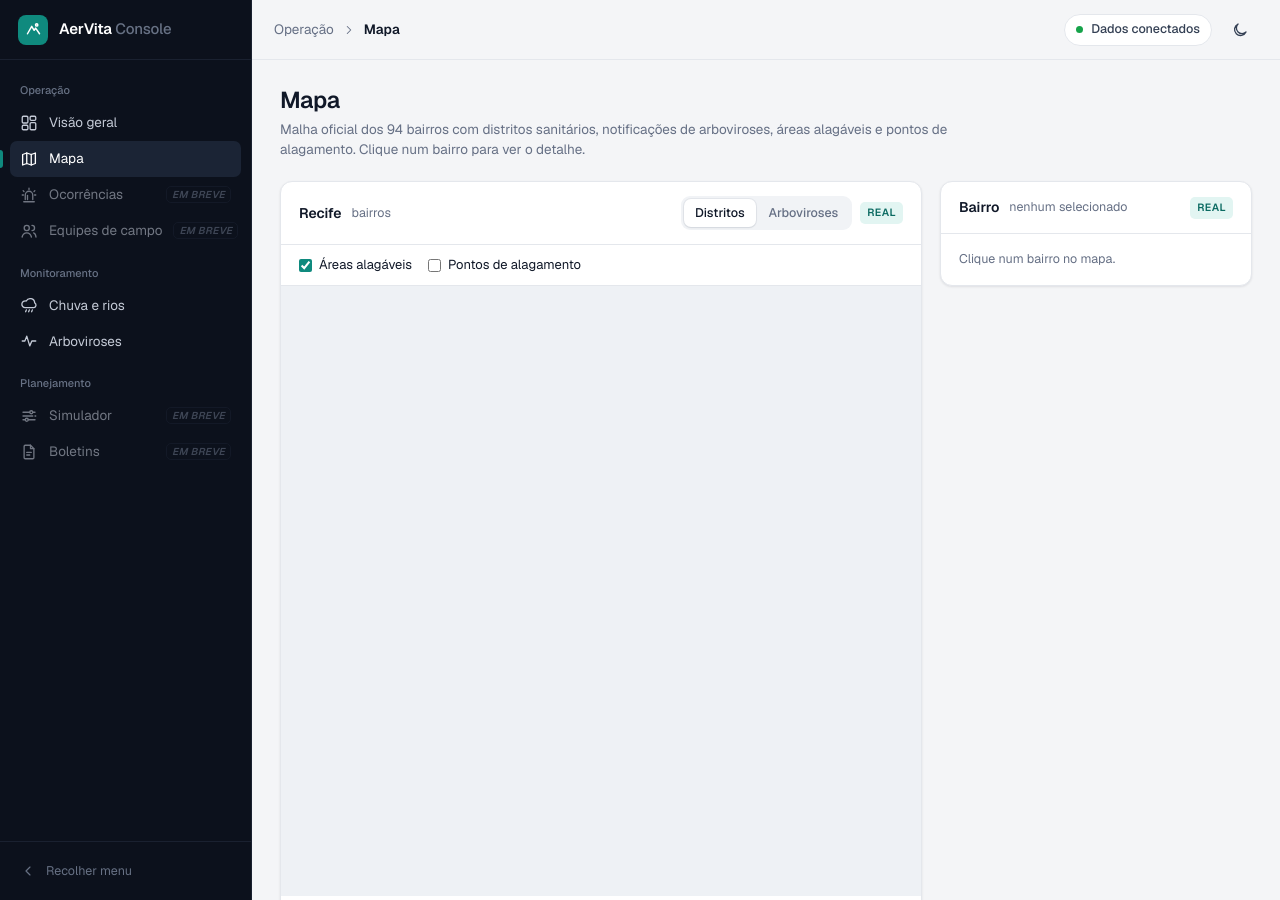
mapa: legenda muda com a camada
The width and height of the screenshot is (1280, 900).
What coordinates should you click on to do the following:
click the button "Arboviroses"
I would click on:
 (803, 213)
Its box is x1=758 y1=199 x2=849 y2=227.
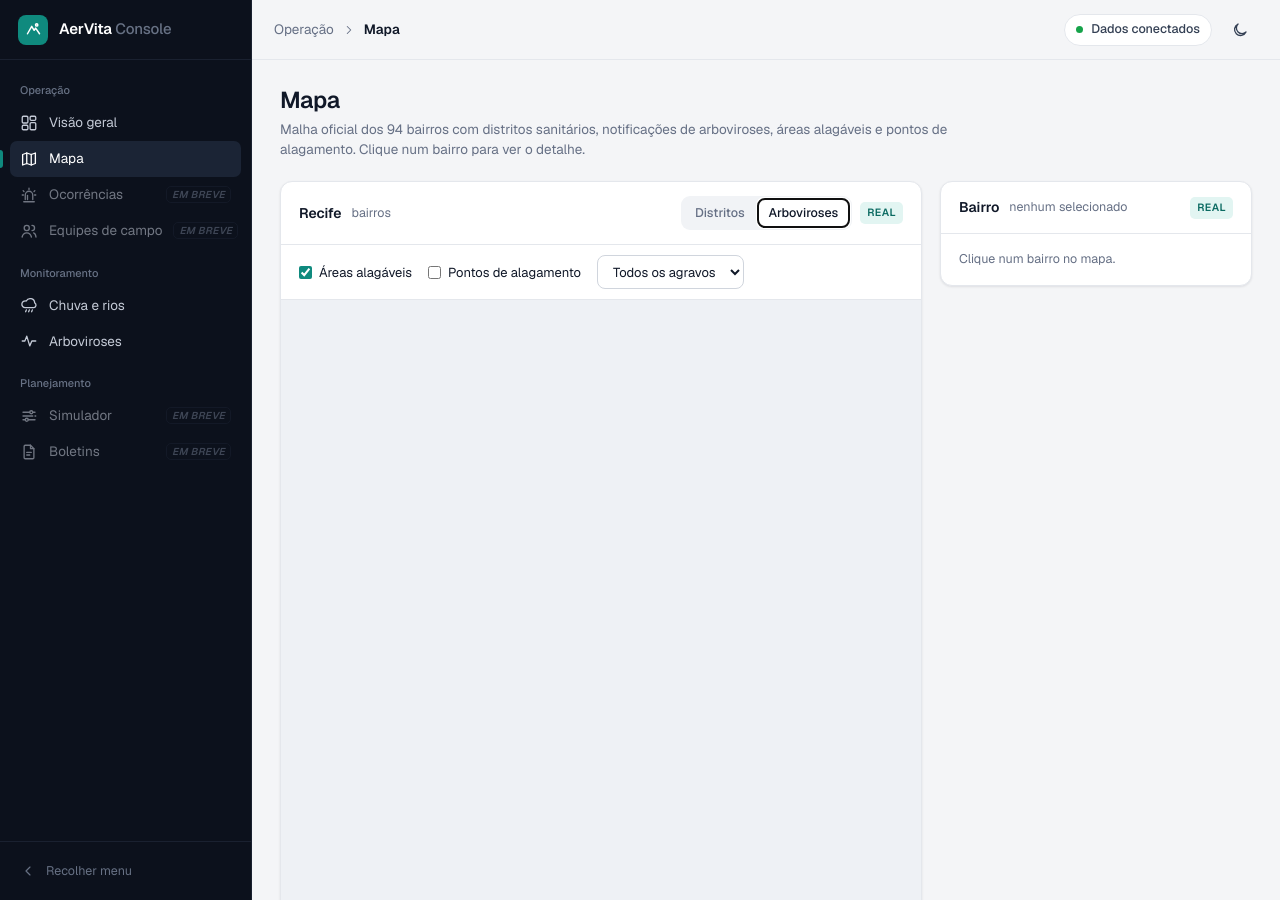
Expected: the dropdown named "Agravo" is shown, x1=597 y1=255 x2=744 y2=289
